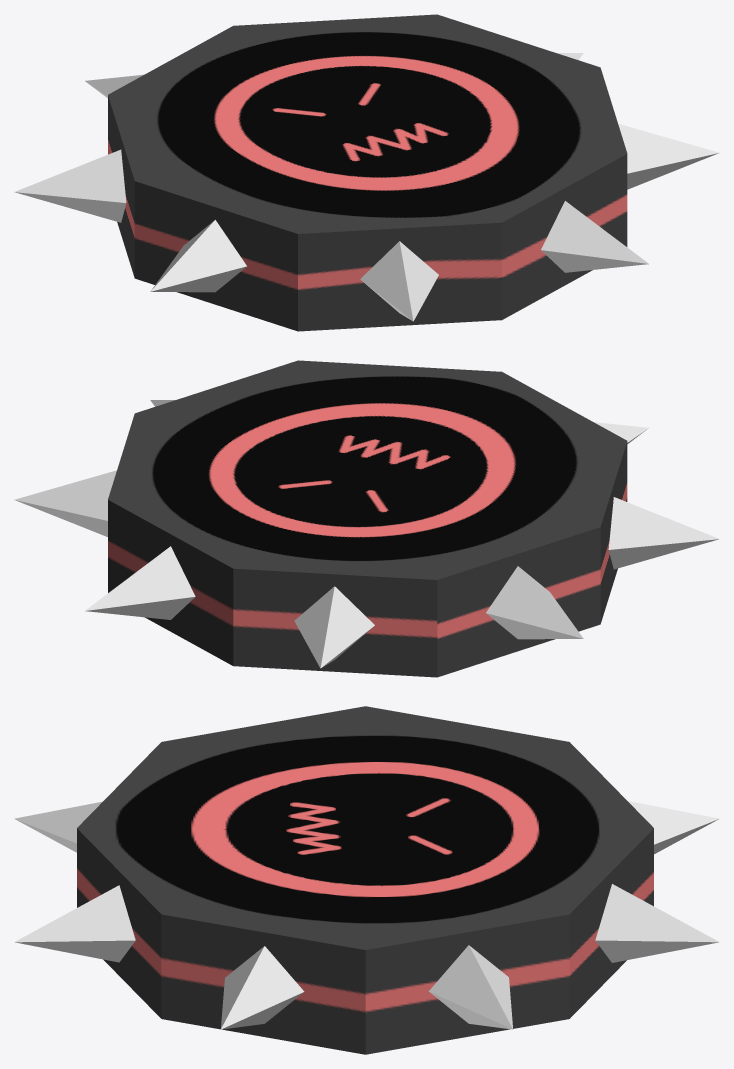
File: Enemy03.gltf
The picture shows the model from 3 angles, top to bottom: view 1: azimuth 30°, elevation 25°; view 2: azimuth 150°, elevation 25°; view 3: azimuth 270°, elevation 25°; orthographic projection. The views are drawn at different scales.
Parts seen in each view (by area): view 1: 円錐.009; view 2: 円錐.009; view 3: 円錐.009.
Part boxes in pixels (x1,y1,x2,y2): 円錐.009: [14, 14, 719, 331]; 円錐.009: [14, 360, 719, 677]; 円錐.009: [14, 706, 719, 1054].
Size of the model in its own units: 1.22 by 0.2438 by 1.22.
Materials: 1 (1 with a texture image).
